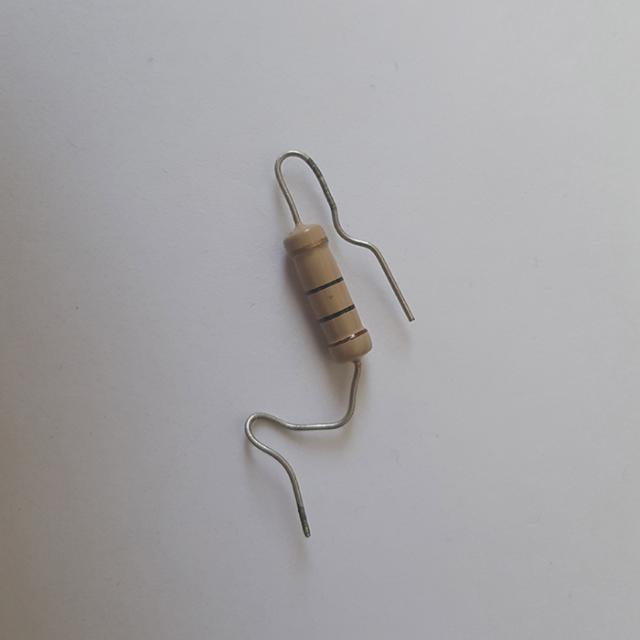black: (303, 275, 343, 293), (317, 304, 354, 322)
brown: (326, 328, 366, 347)
gold: (291, 240, 325, 254)
resistor: (270, 215, 384, 379)
